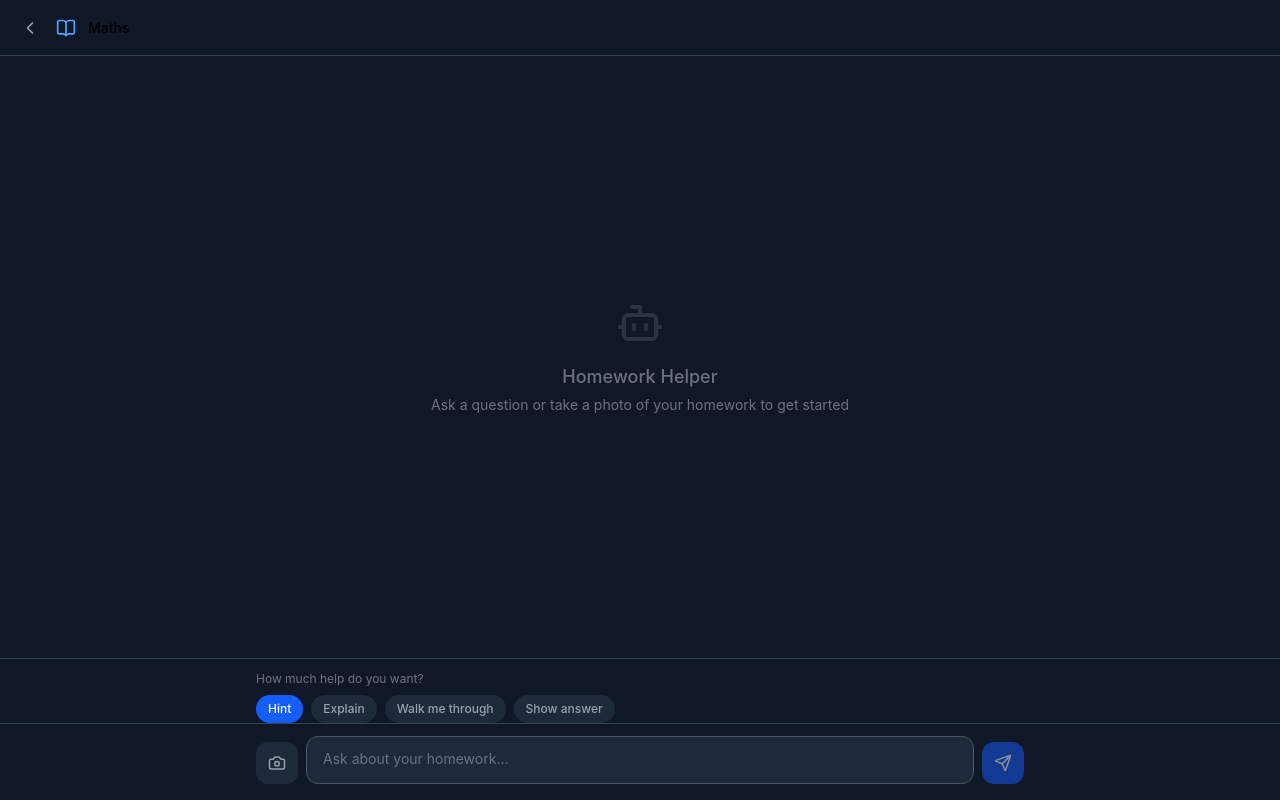
Test case: HomeworkChat – send message flow › appends assistant message after SSE stream completes
Expected: the text "Homework Helper" is shown, 562,363 -> 718,391
Type "Explain photosynthesis" into the text box at {"x": 640, "y": 760}, box 306,736 -> 974,784
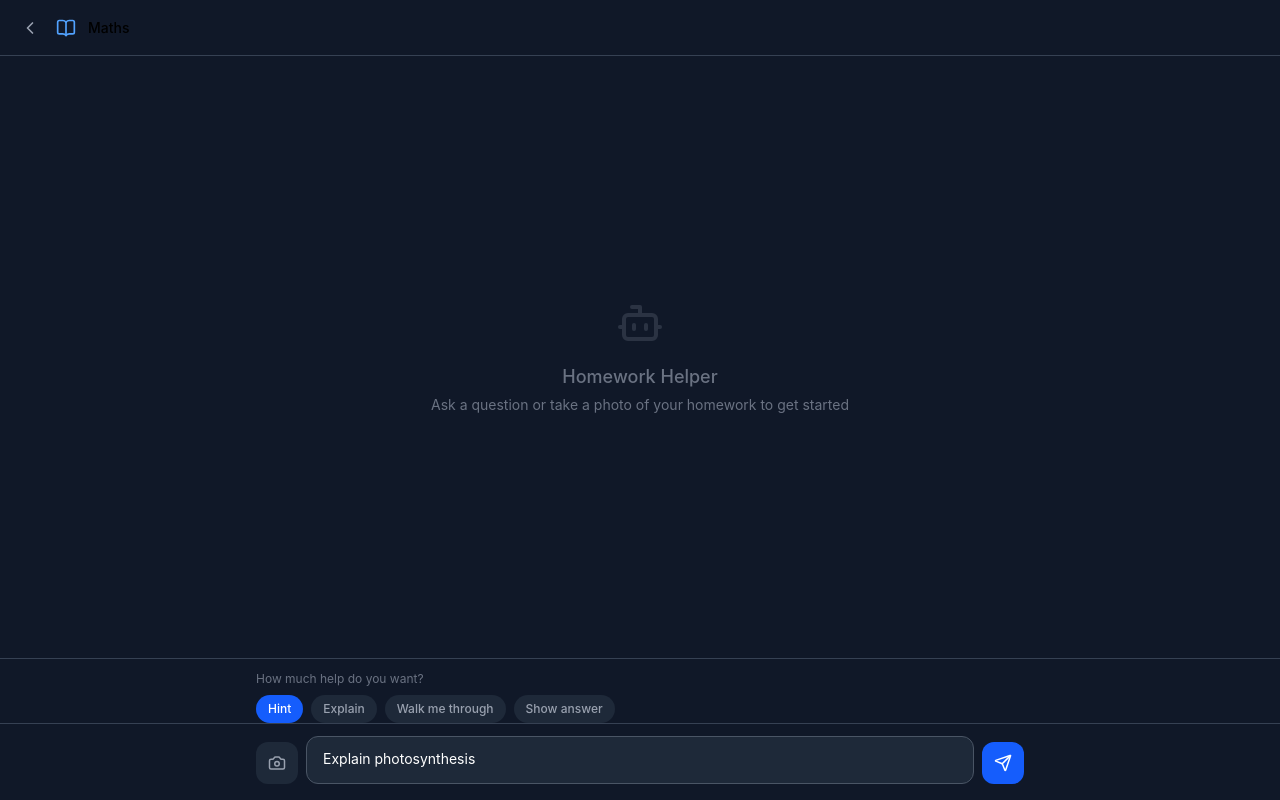
Click the button named "Send message" at {"x": 1003, "y": 763}, box 982,742 -> 1024,784
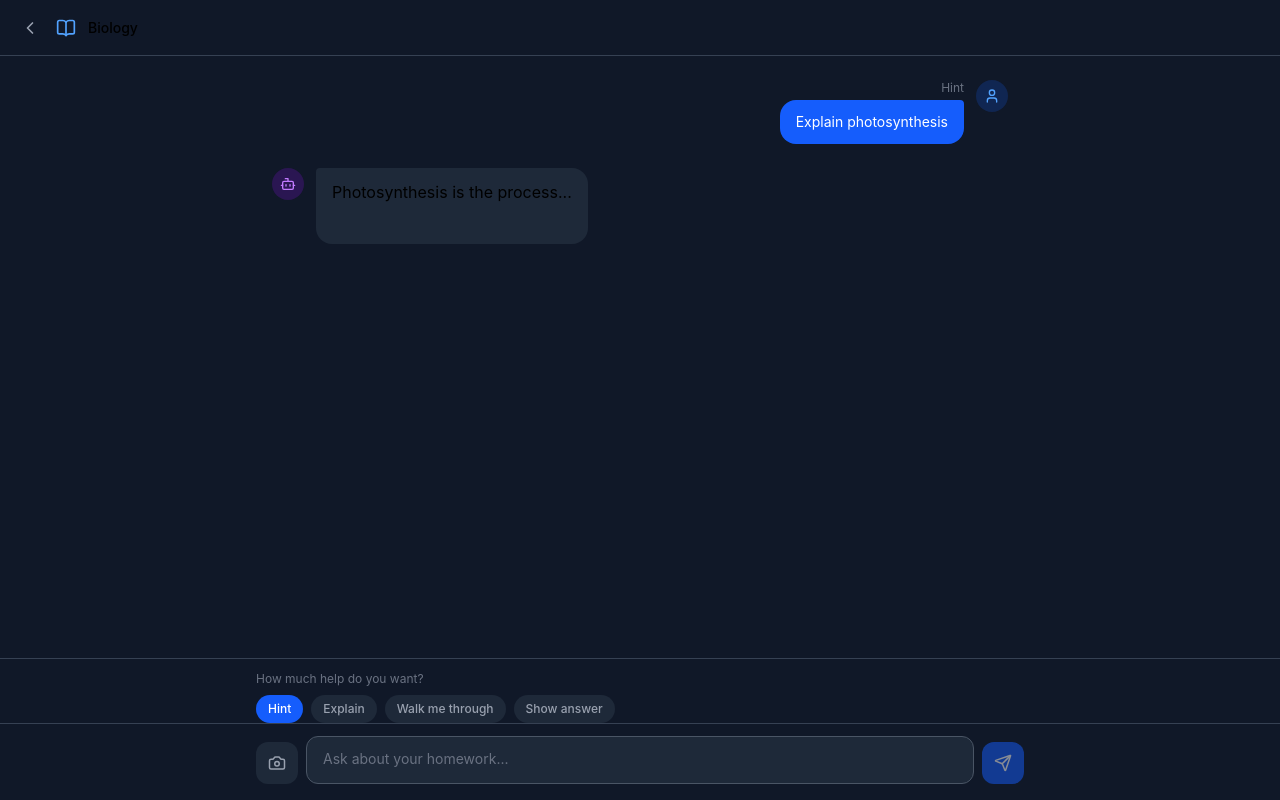
Result: the text "Photosynthesis is the process..." is shown at 332,180 -> 572,204
